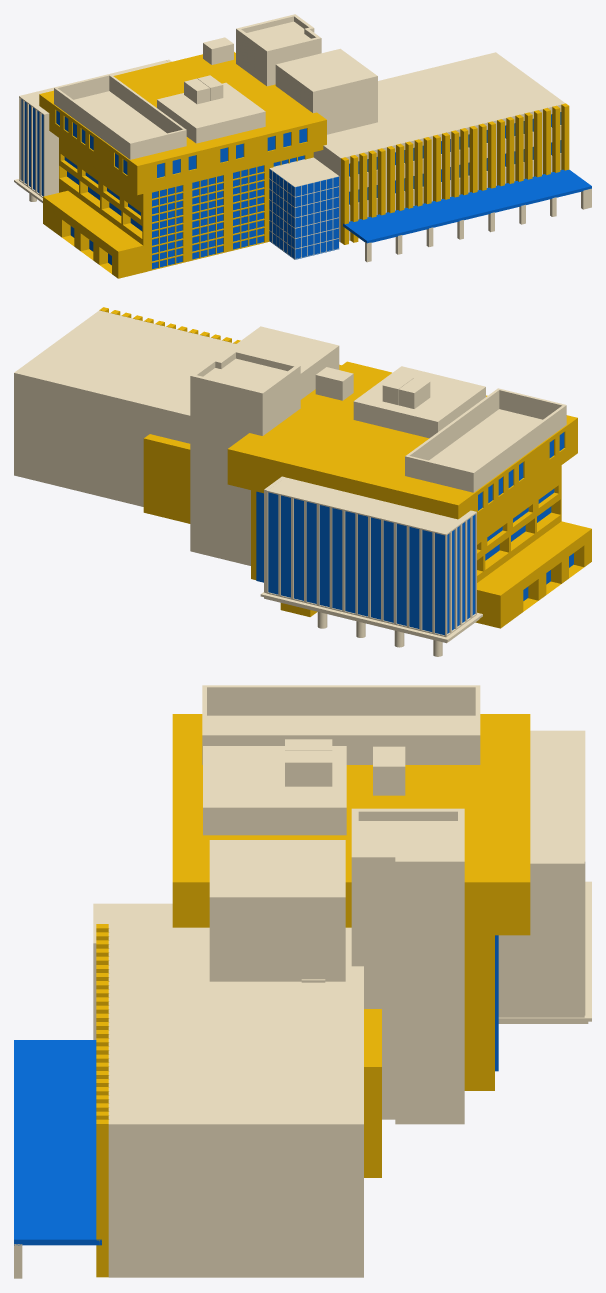
File: 복지관.fbx
The picture shows the model from 3 angles, top to bottom: view 1: azimuth 30°, elevation 25°; view 2: azimuth 150°, elevation 25°; view 3: azimuth 270°, elevation 25°; orthographic projection. The views are drawn at different scales.
Parts seen in each view (by area): view 1: Cube_127, Cube_23, Cube_24, Cube_21, 학생회관_3, Cube_131, Cube_133, Cube_22, Cube_27, Cube_128, 학생회관_7, 학생회관_4 (+9 smaller); view 2: Cube_23, Cube_24, Cube_55, 학생회관_7, Cube_25, 학생회관_3, Cube_128, Cube_21, 학생회관_4, 학생회관_11, Cube_22, 학생회관_8 (+5 smaller); view 3: Cube_23, 학생회관_7, Cube_24, Cube_22, 학생회관_3, Cube_133, 학생회관_1, 학생회관_4, Cube_25, Cube_21, Cube_127, 학생회관_11 (+3 smaller).
Part boxes in pixels (x1=…): Cube_127: x1=341, y1=103, x2=569, y2=244; Cube_23: x1=313, y1=52, x2=565, y2=242; Cube_24: x1=39, y1=52, x2=326, y2=195; Cube_21: x1=59, y1=138, x2=313, y2=272; 학생회관_3: x1=54, y1=74, x2=186, y2=159; Cube_131: x1=67, y1=155, x2=304, y2=269; Cube_133: x1=343, y1=169, x2=591, y2=243; Cube_22: x1=275, y1=48, x2=377, y2=134; Cube_27: x1=269, y1=169, x2=338, y2=259; Cube_128: x1=43, y1=190, x2=146, y2=278; 학생회관_7: x1=236, y1=14, x2=321, y2=86; 학생회관_4: x1=157, y1=82, x2=265, y2=143; Cube_23: x1=14, y1=310, x2=235, y2=506; Cube_24: x1=227, y1=361, x2=577, y2=526; Cube_55: x1=268, y1=492, x2=475, y2=635; 학생회관_7: x1=190, y1=349, x2=300, y2=565; Cube_25: x1=260, y1=477, x2=482, y2=643; 학생회관_3: x1=405, y1=388, x2=566, y2=492; Cube_128: x1=475, y1=521, x2=591, y2=628; Cube_21: x1=251, y1=465, x2=561, y2=616; 학생회관_4: x1=353, y1=366, x2=485, y2=438; 학생회관_11: x1=143, y1=434, x2=190, y2=523; Cube_22: x1=216, y1=326, x2=339, y2=399; 학생회관_8: x1=315, y1=367, x2=353, y2=400; Cube_23: x1=108, y1=924, x2=363, y2=1277; 학생회관_7: x1=351, y1=808, x2=464, y2=1124; Cube_24: x1=172, y1=714, x2=530, y2=935; Cube_22: x1=209, y1=840, x2=345, y2=981; 학생회관_3: x1=202, y1=685, x2=480, y2=764; Cube_133: x1=14, y1=1040, x2=101, y2=1245; 학생회관_1: x1=498, y1=861, x2=584, y2=1017; 학생회관_4: x1=203, y1=746, x2=346, y2=835; Cube_25: x1=498, y1=730, x2=591, y2=1023; Cube_21: x1=464, y1=935, x2=494, y2=1090; Cube_127: x1=96, y1=924, x2=109, y2=1277; 학생회관_11: x1=364, y1=1009, x2=381, y2=1177.
Bounding box in the file's own units: 1317 × 520 × 850.
